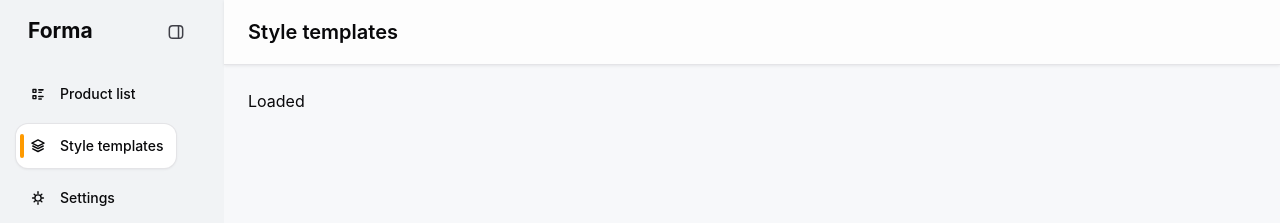
Test: Layout shell › collapses the sidebar to an icon rail
Expected: the link to "/styles" reads "Style templates", [16,124,176,168]
Click the button named "Collapse sidebar": click(176, 32) [156,12,196,52]
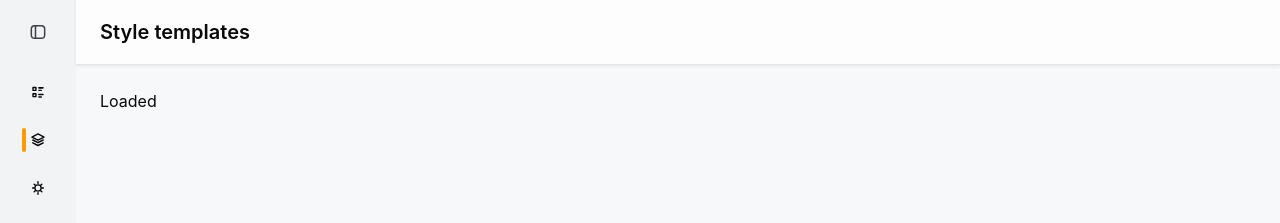
Expected: the button named "Expand sidebar" is collapsed, [18,12,58,52]
